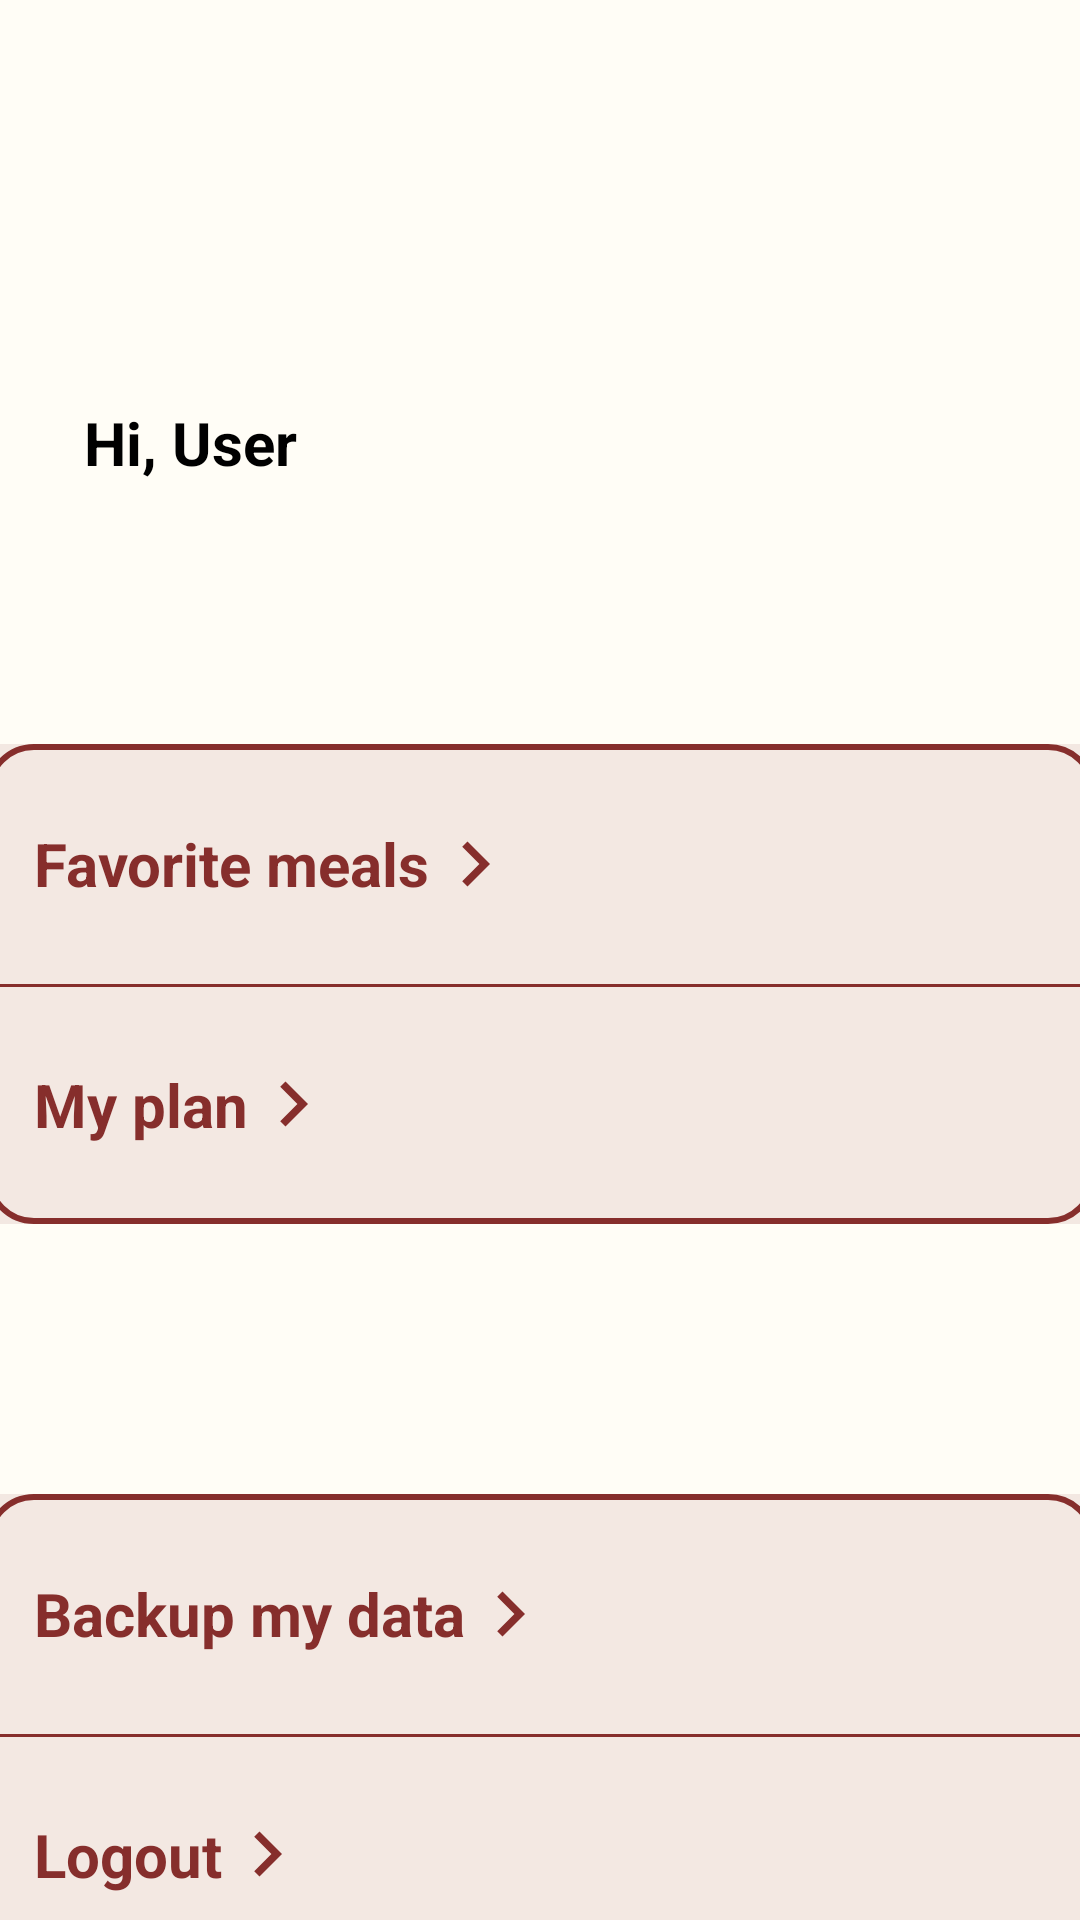

Where to tap for icons on this 1080 x 1920 app screen, as (x=x, y=y):
navigate next: (x=476, y=864), (x=294, y=1104), (x=511, y=1614), (x=268, y=1854)
